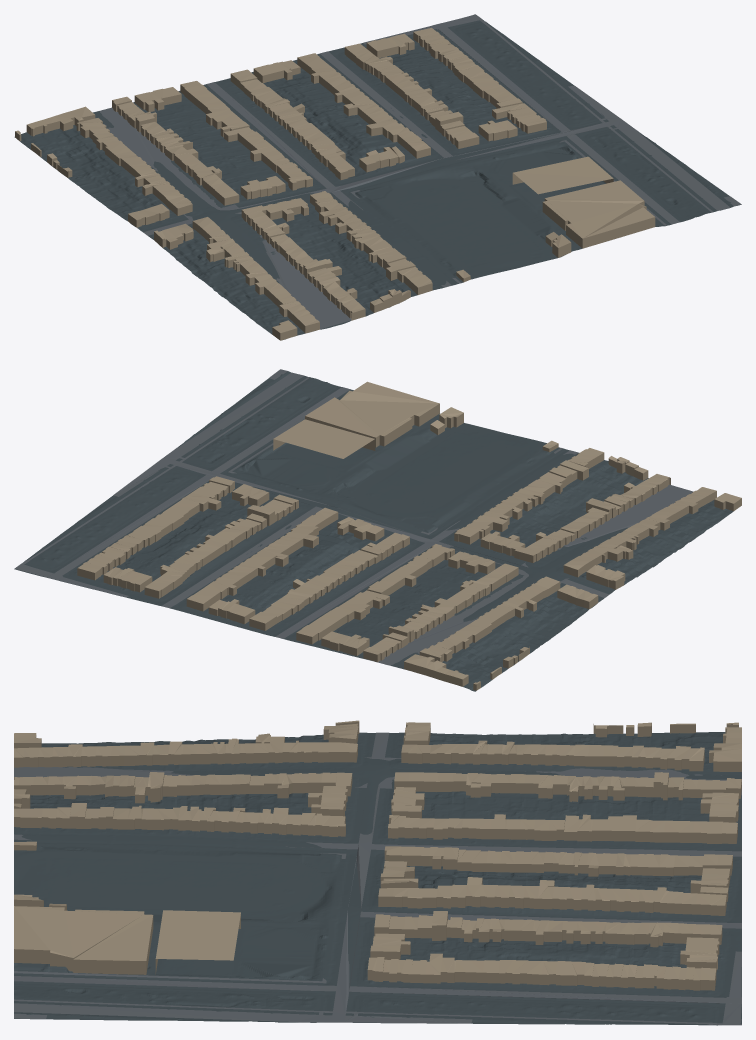
Rendered from epsg26910-1417-10879.lod0.glb.
3 views of the same model, one above another, from view 1: azimuth 30°, elevation 25°; view 2: azimuth 150°, elevation 25°; view 3: azimuth 270°, elevation 25° (orthographic). The views are drawn at different scales.
Parts seen in each view (by area): view 1: epsg26910-1417-10879-lod0; view 2: epsg26910-1417-10879-lod0; view 3: epsg26910-1417-10879-lod0.
Boxes of the visible parts, x1,y1,x2,y2 form: epsg26910-1417-10879-lod0: (14, 14, 741, 340); epsg26910-1417-10879-lod0: (14, 369, 741, 691); epsg26910-1417-10879-lod0: (14, 720, 741, 1025).
Size of the model in its own units: 384 by 25.73 by 384.
